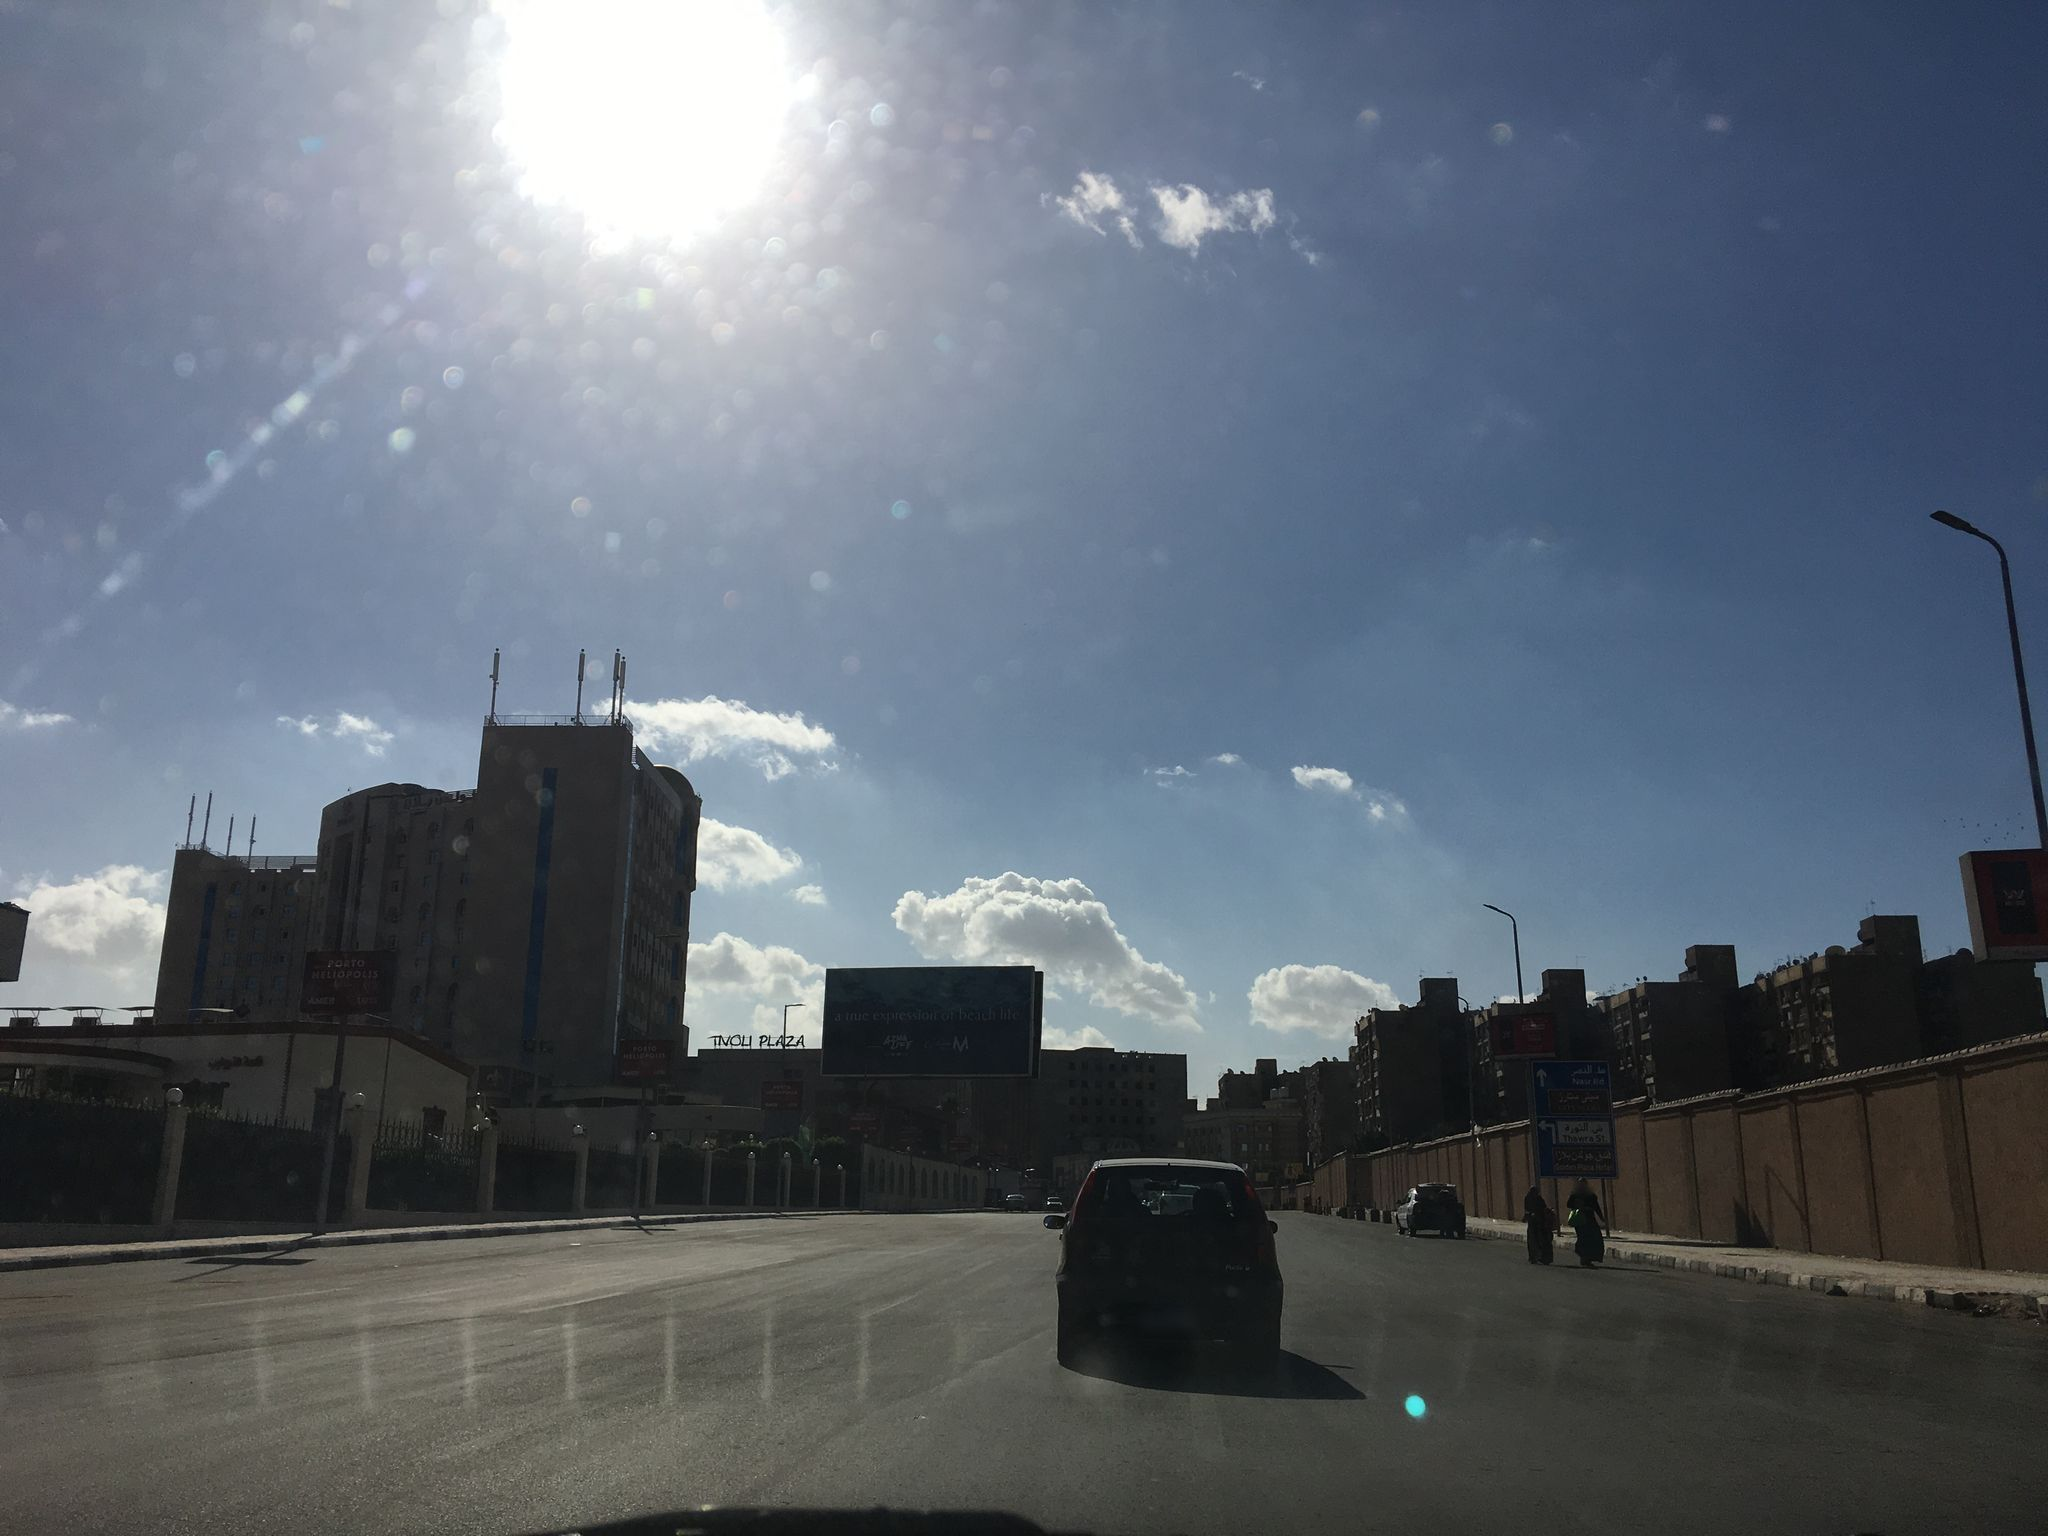car: (1042, 1155, 1287, 1367), (1395, 1181, 1467, 1238), (1005, 1192, 1029, 1213), (1045, 1196, 1063, 1212)
